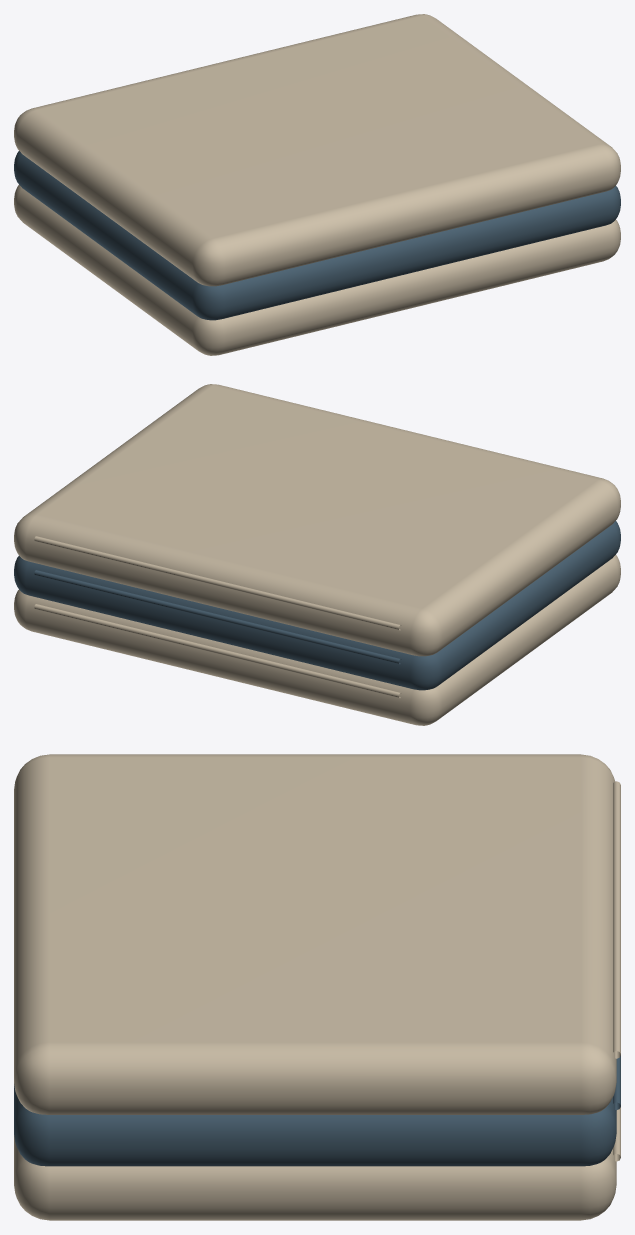
Rendered from folded_linen.glb.
The picture shows the model from 3 angles, top to bottom: view 1: azimuth 30°, elevation 25°; view 2: azimuth 150°, elevation 25°; view 3: azimuth 270°, elevation 25°; orthographic projection. The views are drawn at different scales.
Parts seen in each view (by area): view 1: Folded fabric.002, Folded fabric, Folded fabric.001; view 2: Folded fabric.002, Folded fabric, Folded fabric.001, Fold seam.002, Fold seam.001, Fold seam; view 3: Folded fabric.002, Folded fabric, Folded fabric.001, Fold seam.002.
Boxes of the visible parts, left/top/right/bottom form: Folded fabric.002: left=14, top=14, right=620, bottom=286; Folded fabric: left=14, top=185, right=620, bottom=355; Folded fabric.001: left=14, top=151, right=620, bottom=320; Folded fabric.002: left=14, top=384, right=620, bottom=656; Folded fabric: left=14, top=555, right=620, bottom=725; Folded fabric.001: left=14, top=521, right=620, bottom=690; Fold seam.002: left=34, top=536, right=401, bottom=630; Fold seam.001: left=34, top=570, right=401, bottom=664; Fold seam: left=34, top=604, right=401, bottom=698; Folded fabric.002: left=14, top=754, right=616, bottom=1114; Folded fabric: left=14, top=1135, right=616, bottom=1220; Folded fabric.001: left=14, top=1084, right=616, bottom=1166; Fold seam.002: left=613, top=781, right=620, bottom=1058.
Bounding box in the file's own units: 0.42 × 0.109 × 0.3425.
